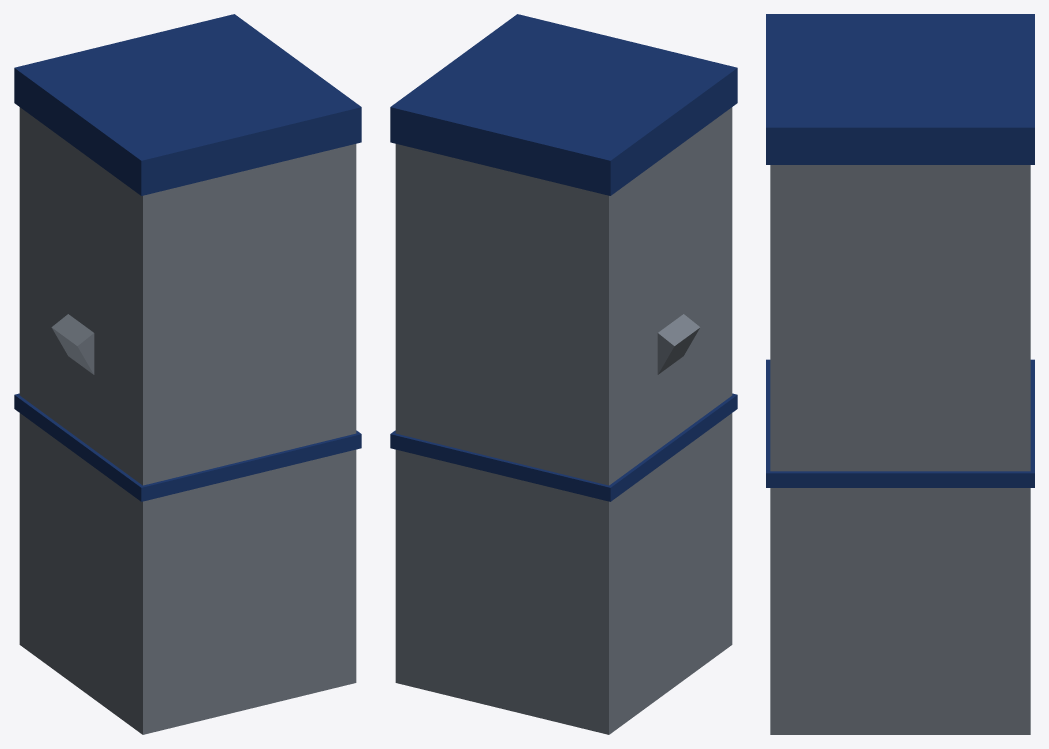
File: planta_torre.obj
The picture shows the model from 3 angles, left to right: view 1: azimuth 30°, elevation 25°; view 2: azimuth 150°, elevation 25°; view 3: azimuth 270°, elevation 25°; orthographic projection. The views are drawn at different scales.
Parts seen in each view (by area): view 1: planta_torre; view 2: planta_torre; view 3: planta_torre.
Boxes of the visible parts, x1,y1,x2,y2 form: planta_torre: (14,14,361,734); planta_torre: (390,14,737,734); planta_torre: (766,14,1034,734).
Size of the model in its own units: 20.79 by 49 by 19.6.
